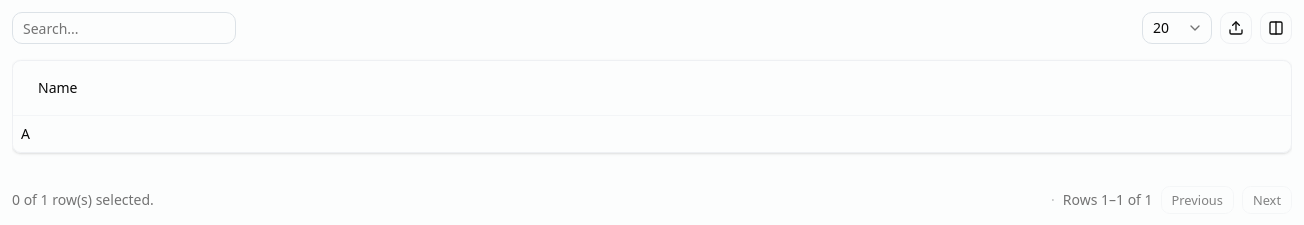
DataTable › opens column visibility menu
What coordinates should you click on to do the following:
click the button named "Toggle columns"
I would click on:
 (1276, 28)
Its box is [1260,12,1292,44].
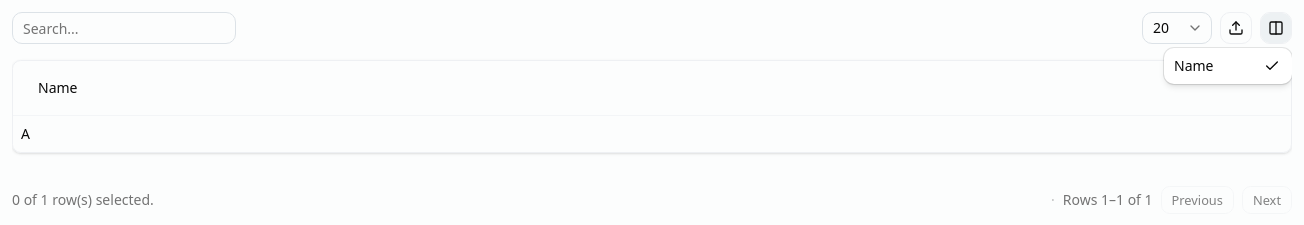
Check: the menu item "name" is shown, box [1168,52,1288,80]
